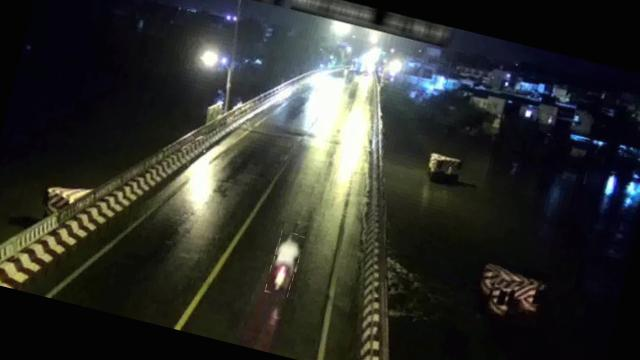Bike: (265, 230, 304, 298)
